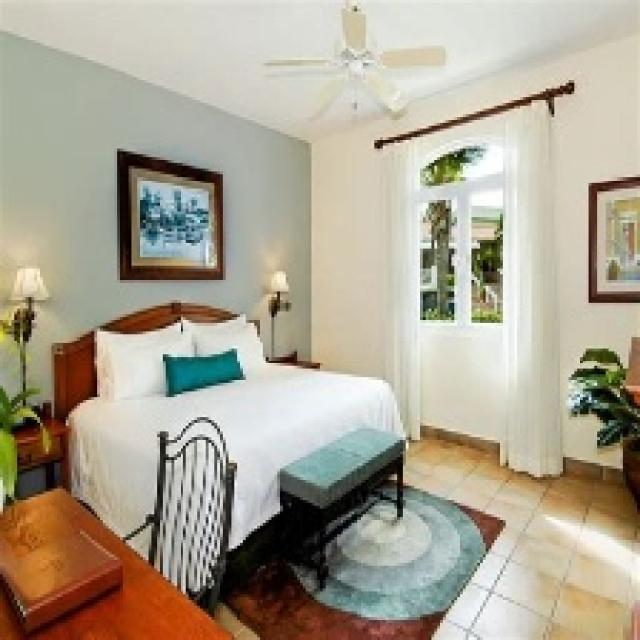Bed: (48, 300, 406, 597)
